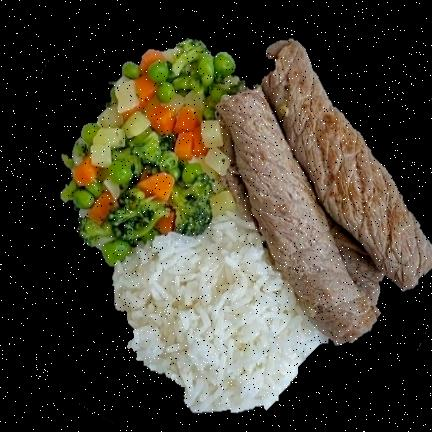broccoli: (61, 129, 214, 266)
carrot: (119, 49, 207, 160)
meat: (217, 40, 431, 345)
peas: (122, 53, 233, 103)
rice: (113, 214, 325, 412)
